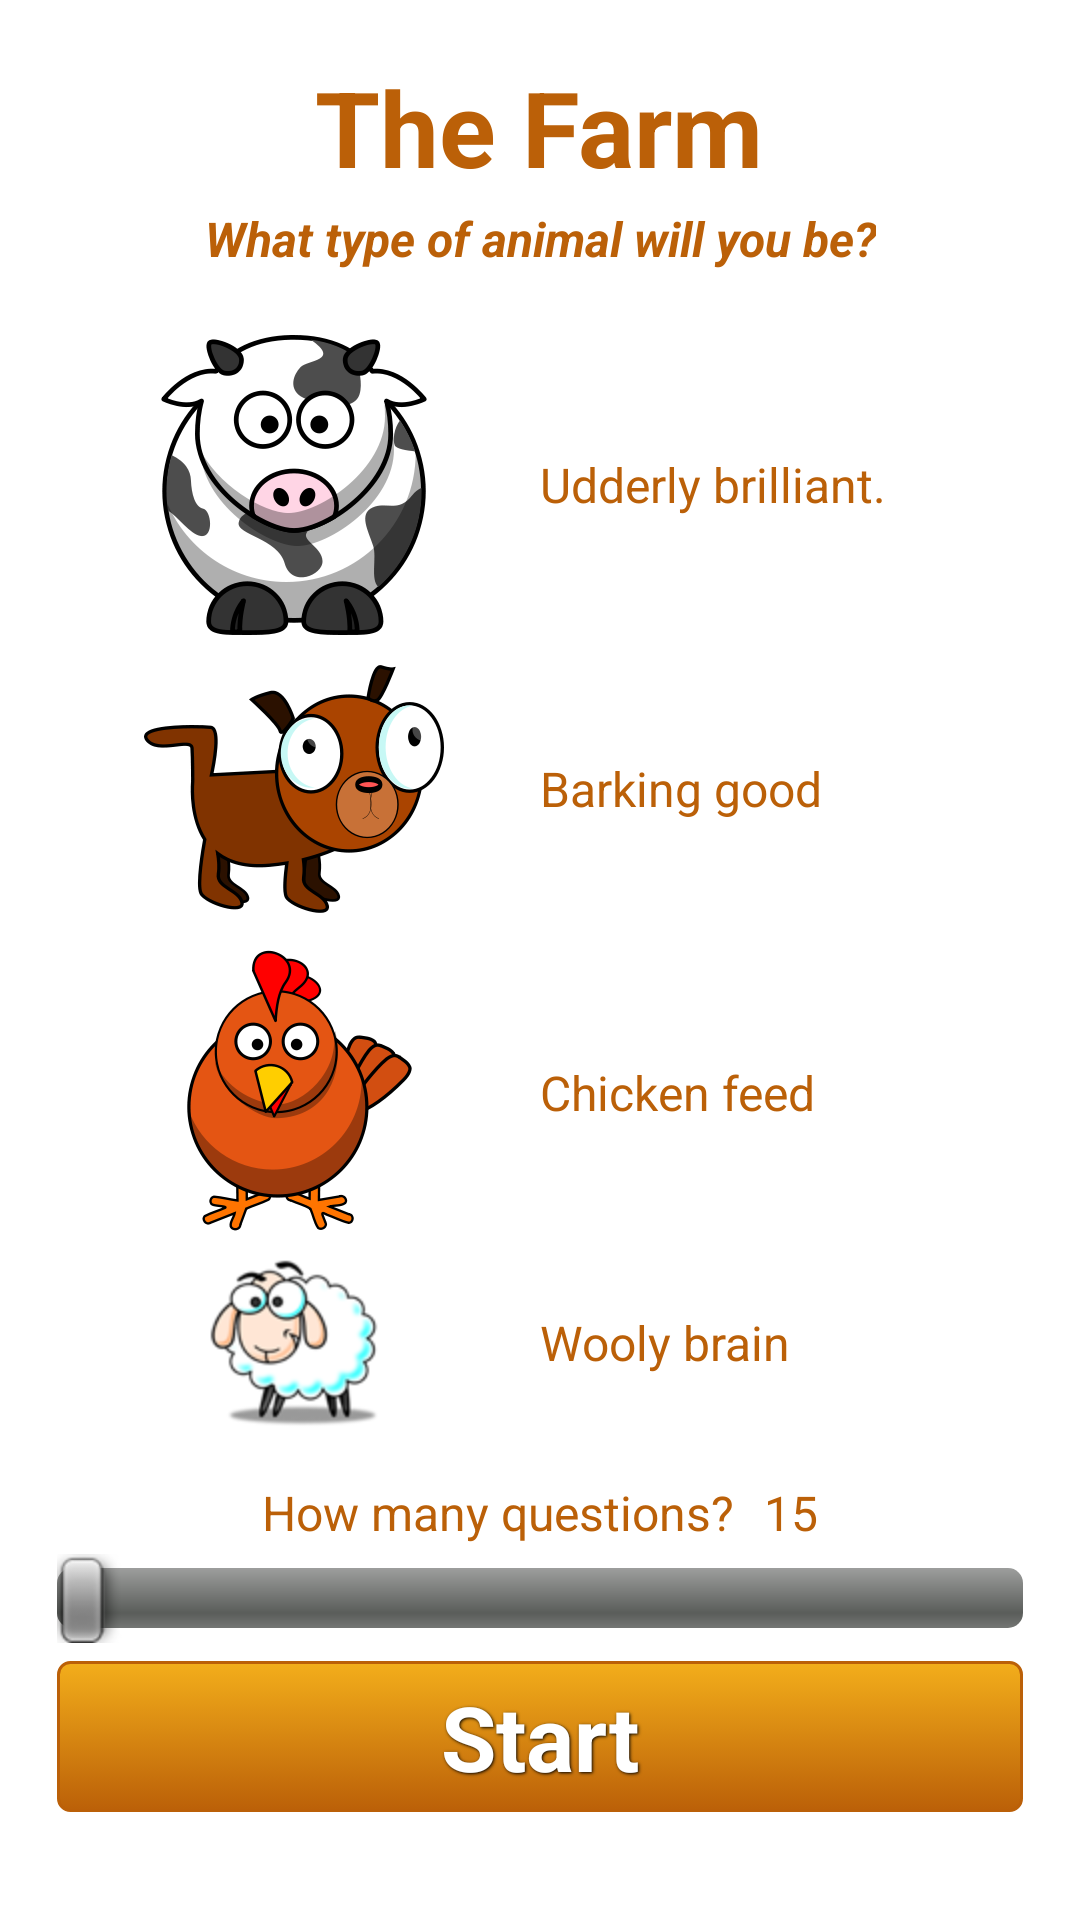

Icon bounding boxes for this 1080w x 1920h phone screenshot, format box(x1, y1, x2, y2):
cow: box(161, 335, 427, 635)
dog: box(144, 665, 444, 913)
rooster: box(187, 950, 412, 1231)
sheep: box(210, 1260, 377, 1424)
